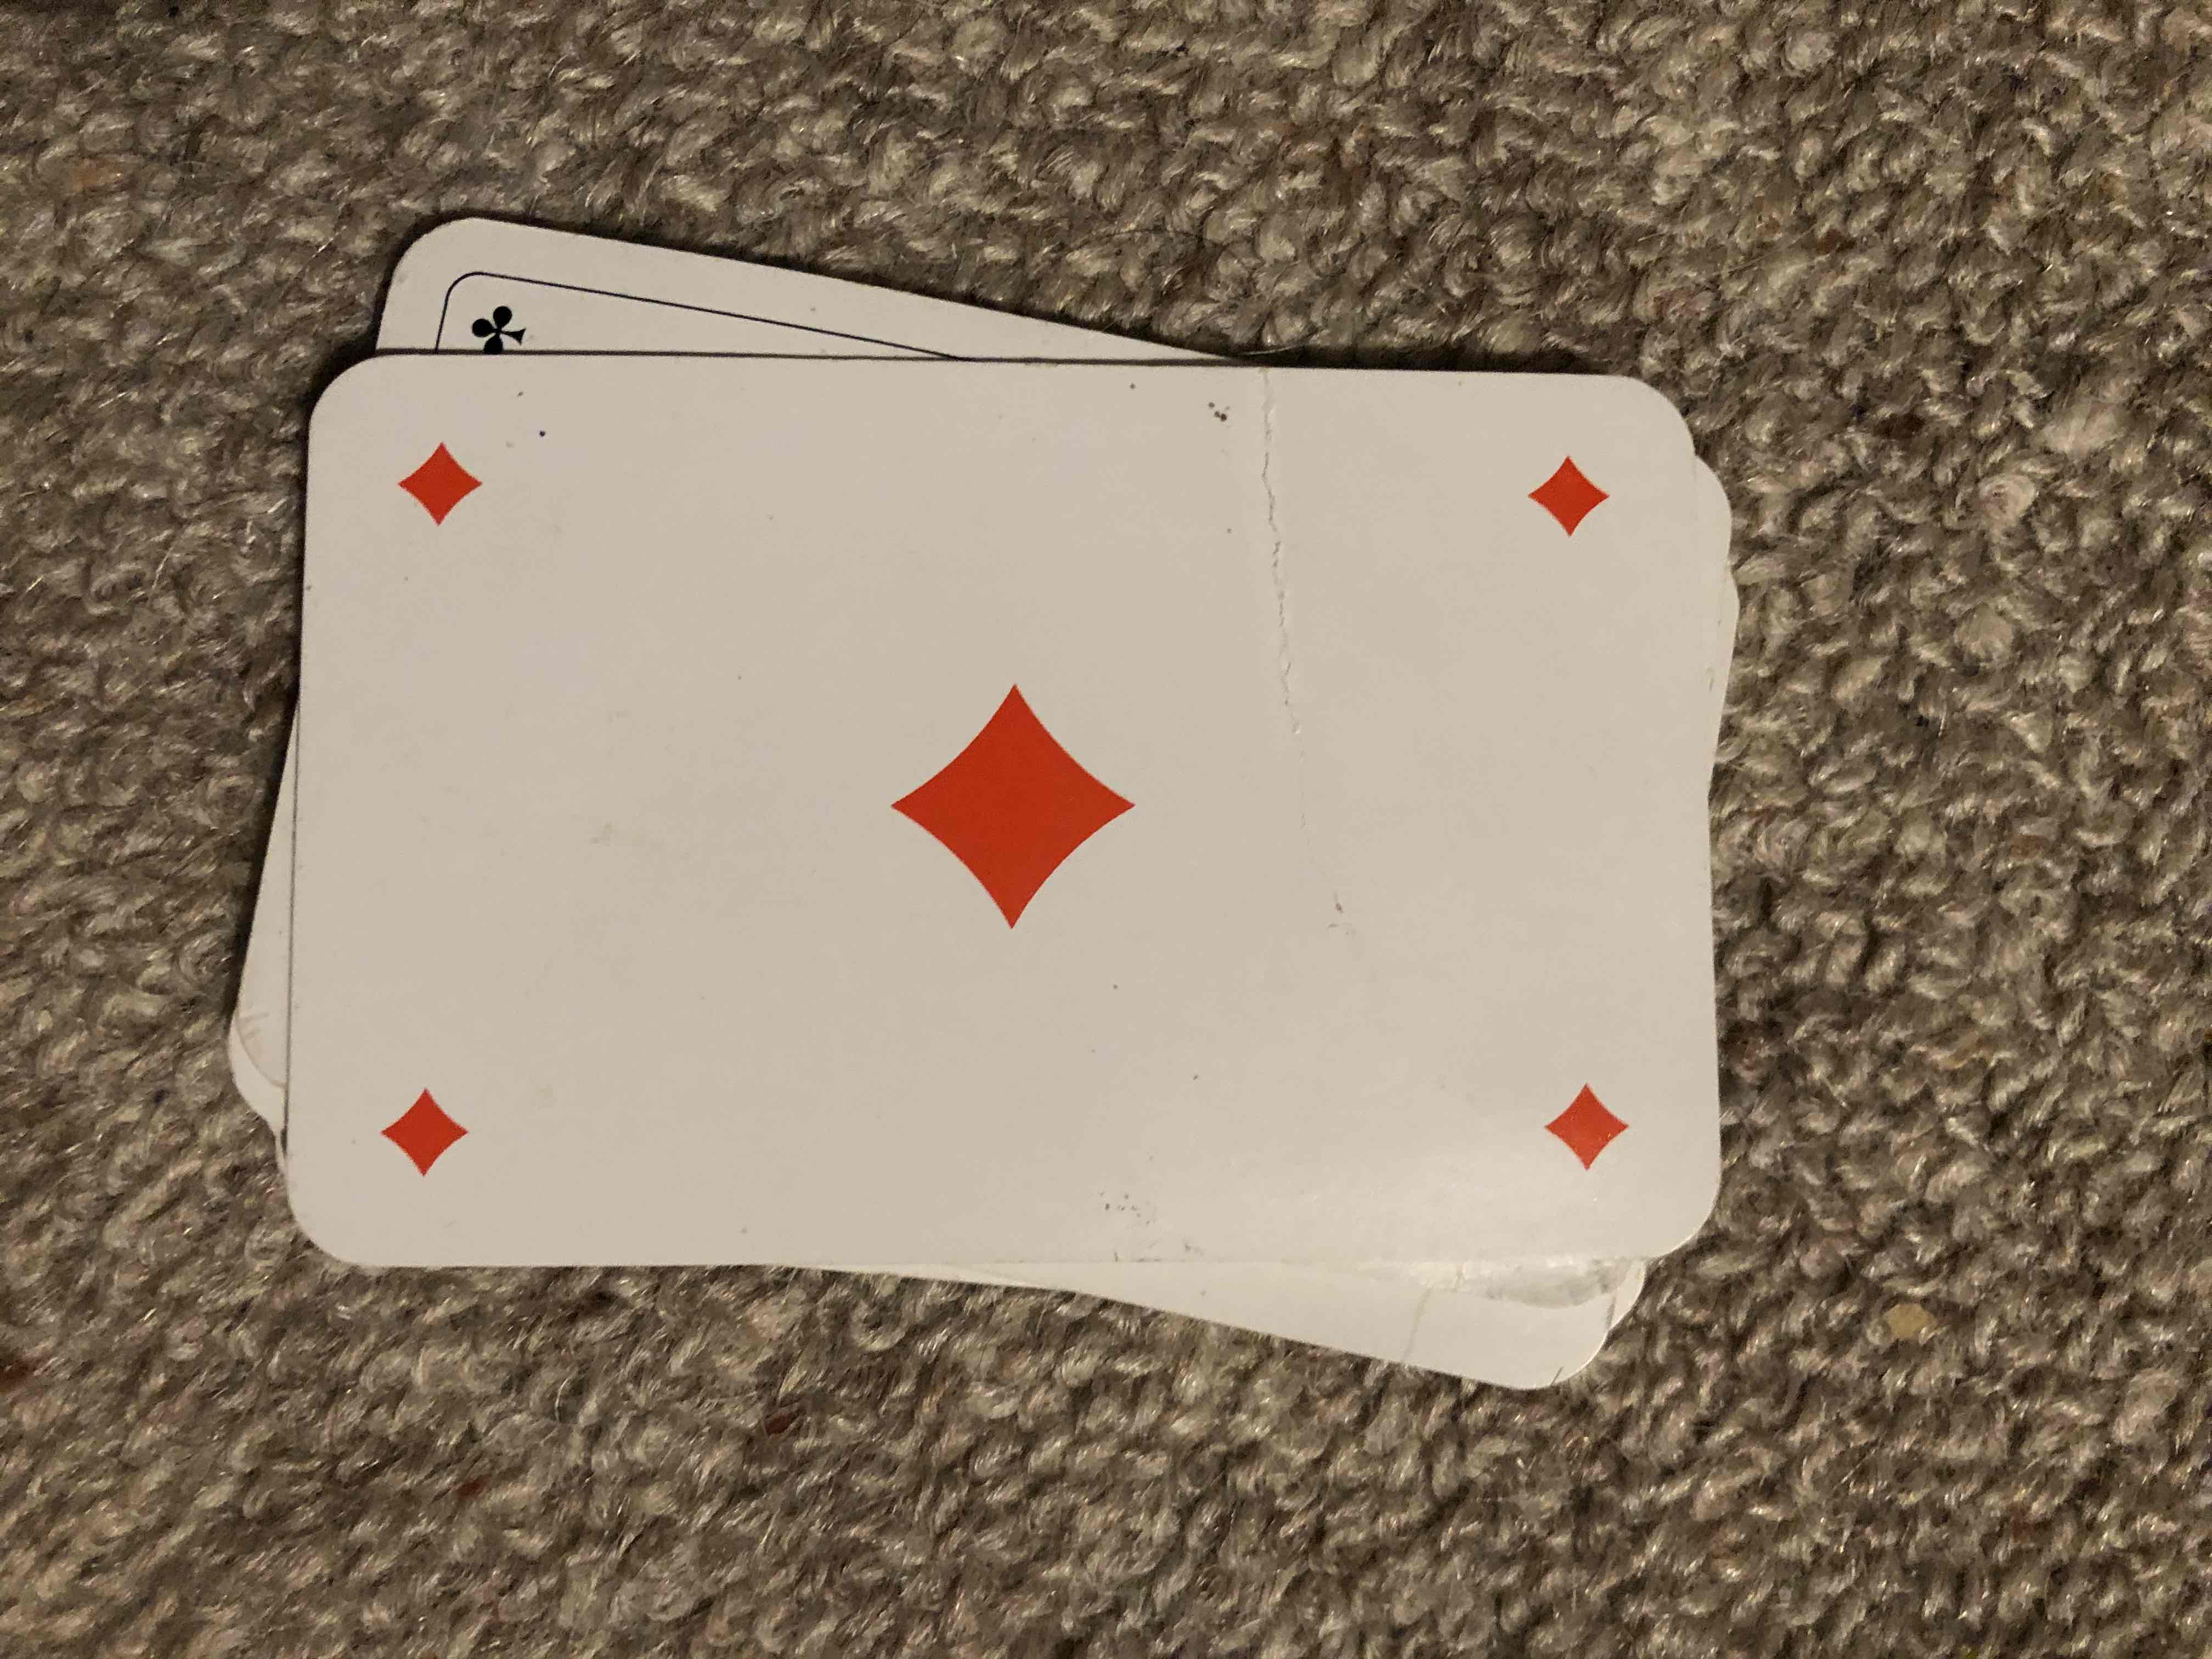diamondAce: (319, 349, 1730, 1244)
